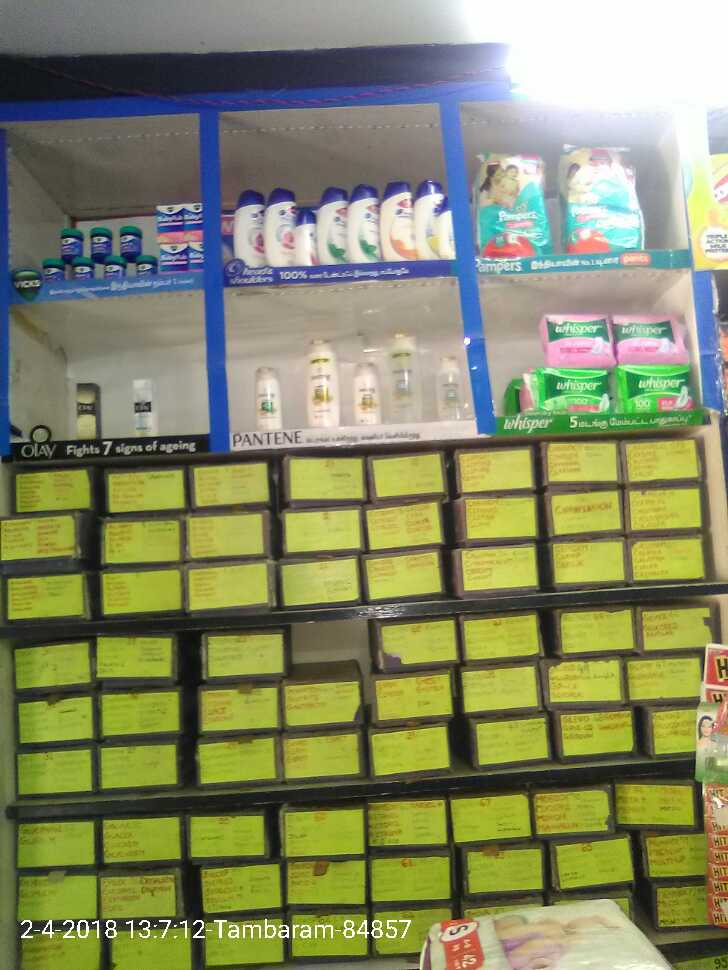vicks: (41, 202, 209, 287)
